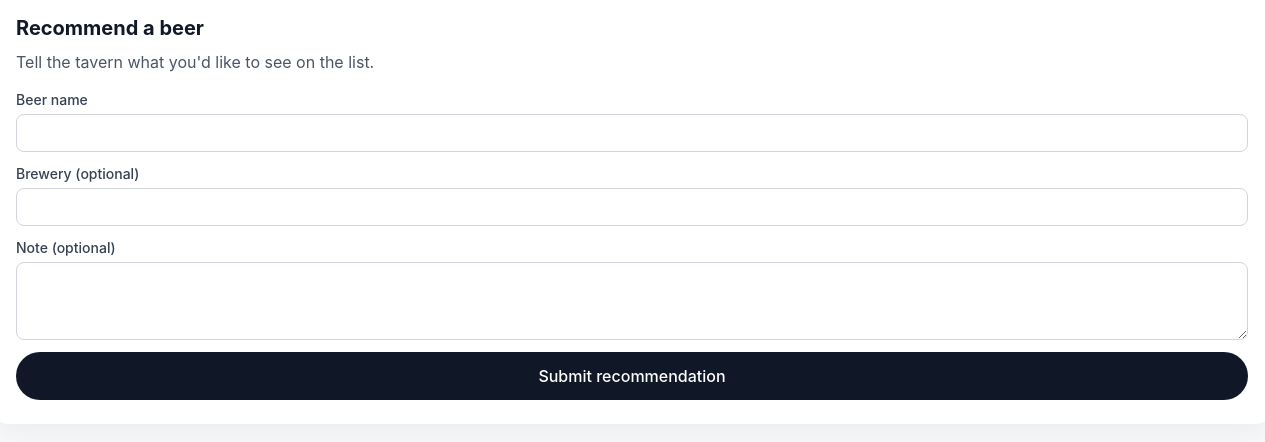
Test: RecommendBeer › submits a standalone plain-text recommendation
Step 1. Type "Some Great IPA" into the field labelled "Beer name" → (632,133), box [16, 114, 1248, 152]
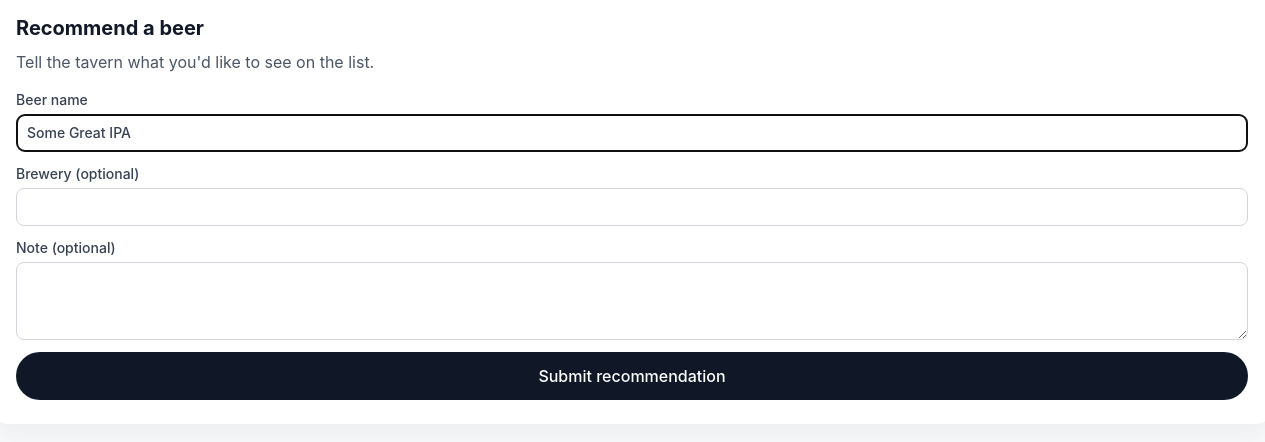
Step 2. Click the button "Submit recommendation" → (632,376), box [16, 352, 1248, 400]
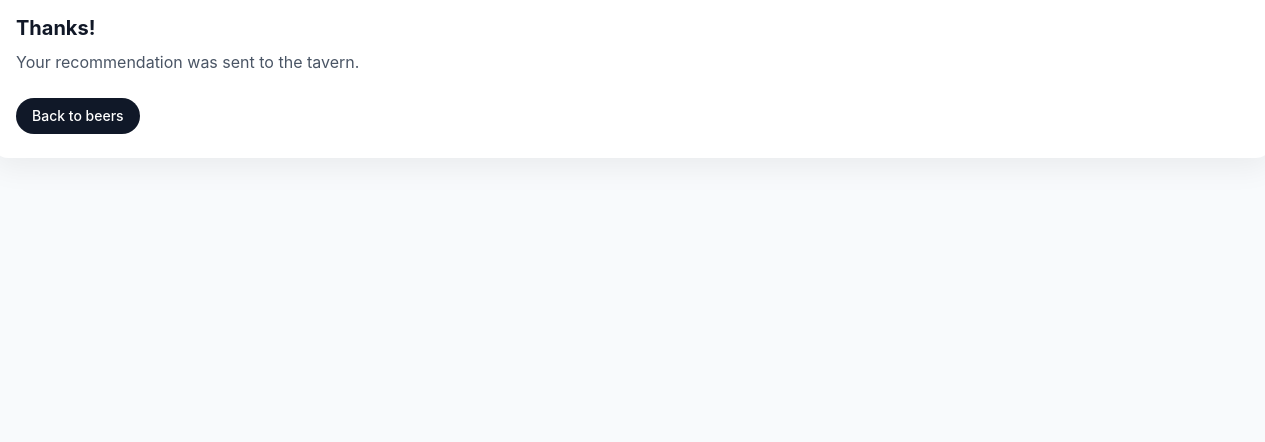
Expected: the heading "Thanks!" is shown, [16, 16, 95, 40]
